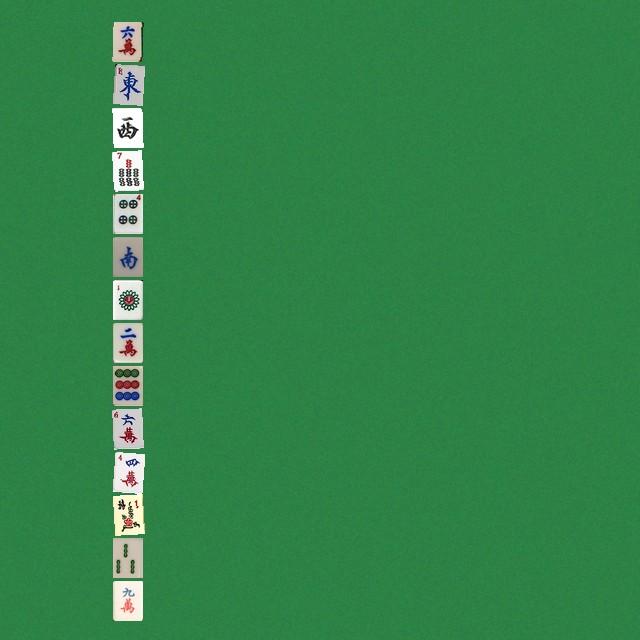tile: (112, 21, 142, 61), (112, 64, 142, 104), (112, 107, 142, 147), (112, 150, 142, 190), (112, 193, 142, 233), (112, 236, 142, 276), (112, 279, 142, 319), (112, 322, 142, 362), (112, 365, 142, 405), (112, 408, 142, 448), (112, 451, 142, 491), (112, 494, 142, 534), (112, 537, 142, 577), (112, 580, 142, 620)
